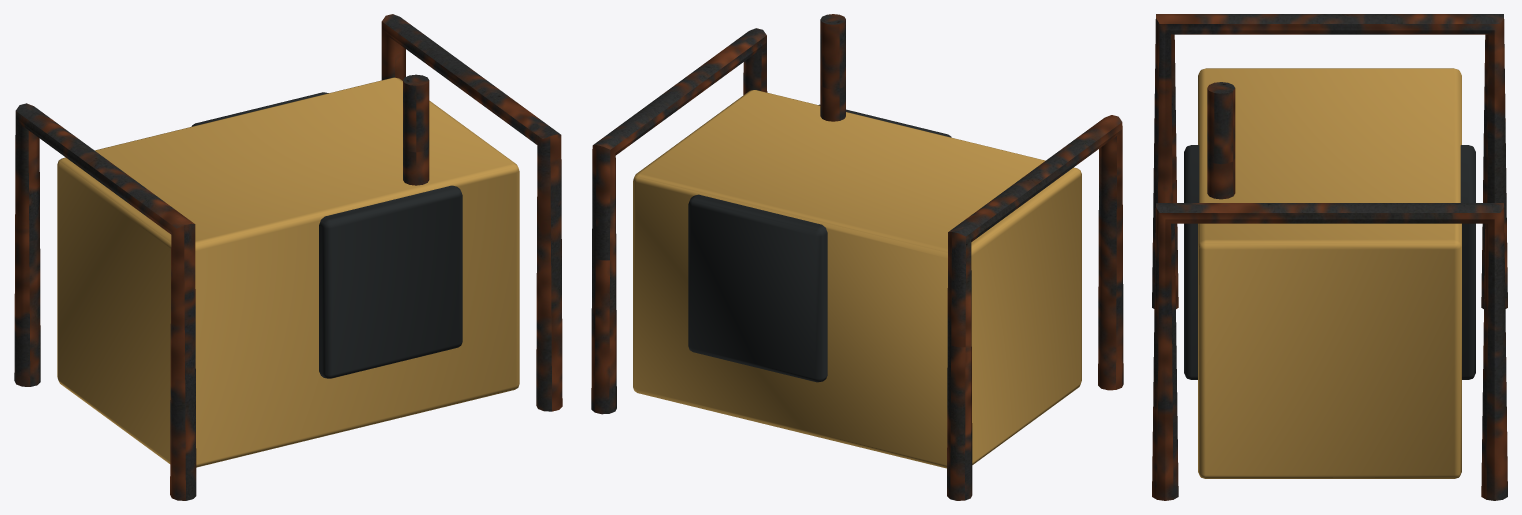
The model's file is SM_portable_generator_75f054d380.fbx.
The picture shows the model from 3 angles, left to right: view 1: azimuth 30°, elevation 25°; view 2: azimuth 150°, elevation 25°; view 3: azimuth 270°, elevation 25°; orthographic projection. The views are drawn at different scales.
Visible parts, largest first — view 1: SM_portable_generator_75f054d380; view 2: SM_portable_generator_75f054d380; view 3: SM_portable_generator_75f054d380.
Boxes of the visible parts, x1,y1,x2,y2 form: SM_portable_generator_75f054d380: (14, 14, 562, 500); SM_portable_generator_75f054d380: (591, 14, 1123, 500); SM_portable_generator_75f054d380: (1152, 14, 1507, 500).
Size of what is drawn, in the model's own units: 153 by 115 by 125.
3 materials, 1 textured.
